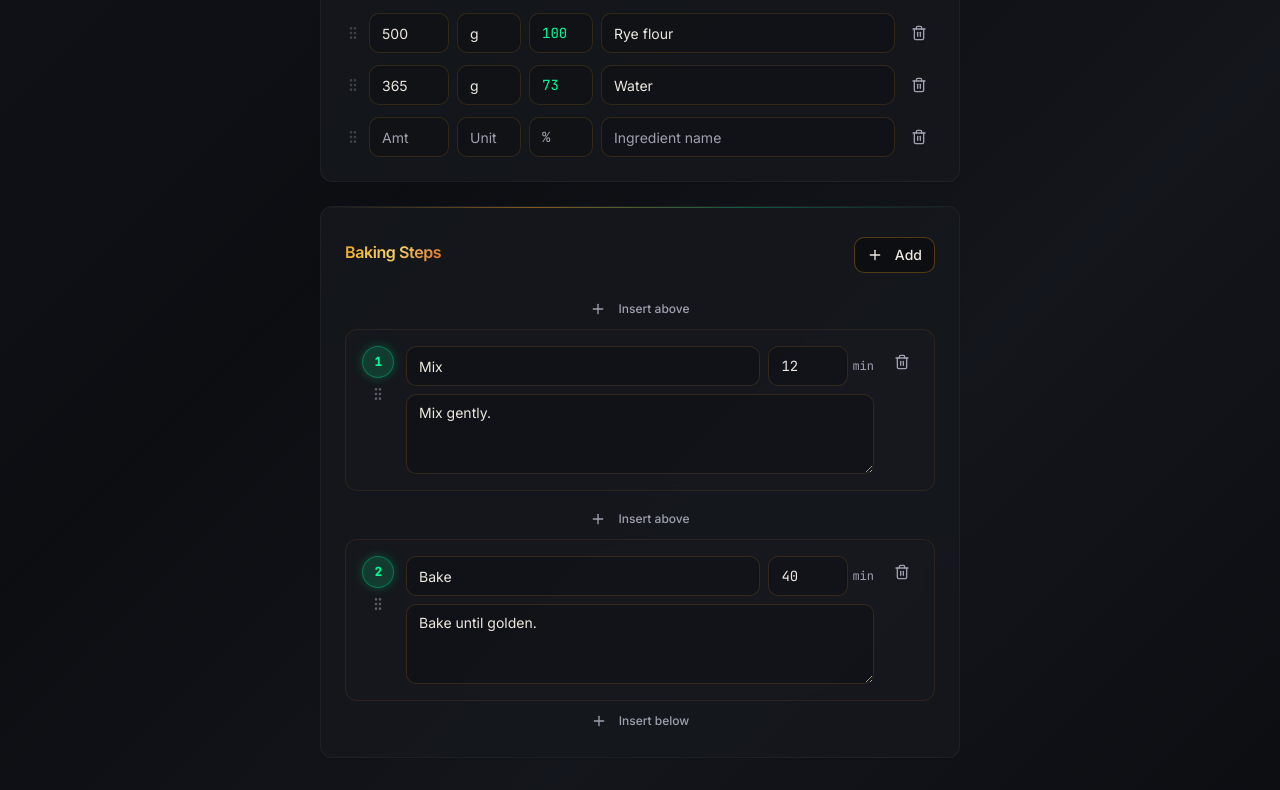
Scenario: creates a recipe with the intended tags, ingredients, and ordered steps
Earlier steps of the test are not shown.
(page scrolled)
Click the button "Insert below". click: coordinates (640, 721)
box: [579,709,701,733]
(page scrolled)
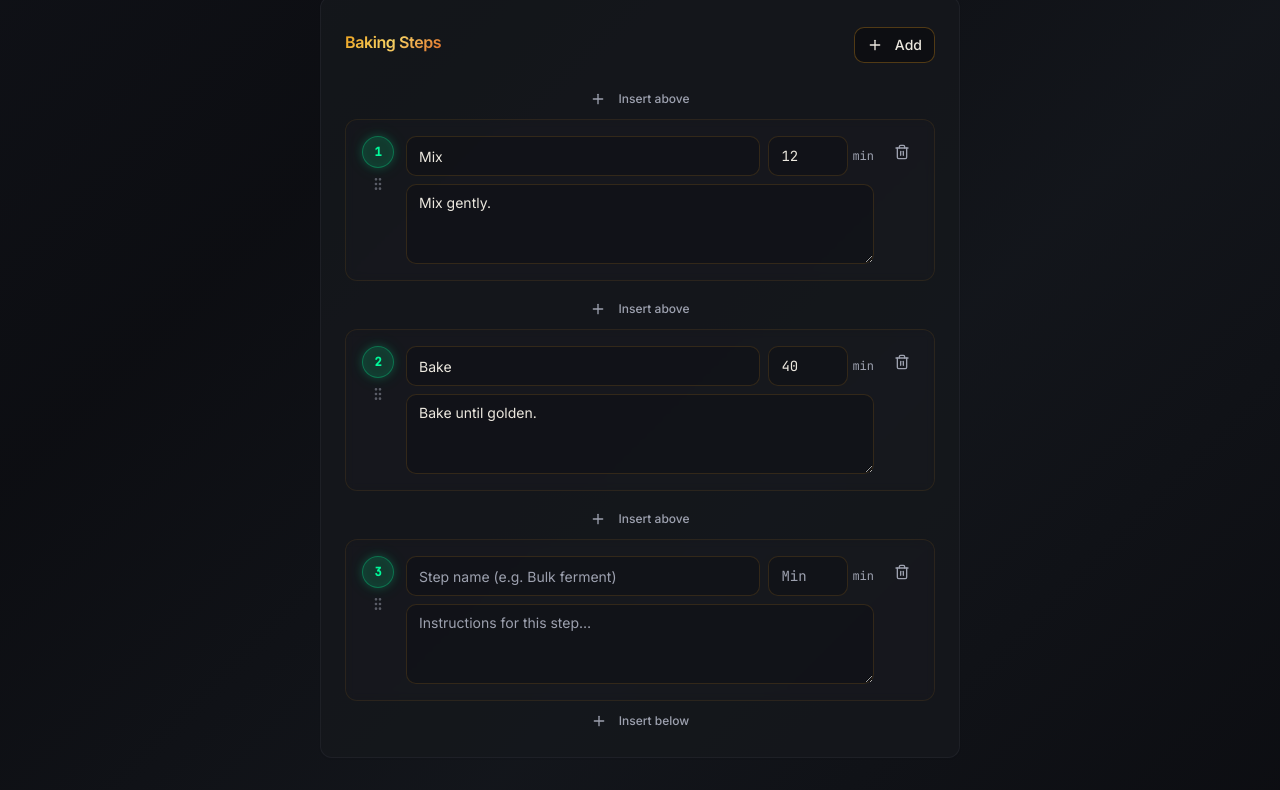
Type "Cooling" into the field with placeholder "Step name (e.g. Bulk ferment)". click: coordinates (583, 576)
box: [406,556,760,596]
Type "50" into the number field with placeholder "Min". click: coordinates (808, 576)
box: [768,556,848,596]
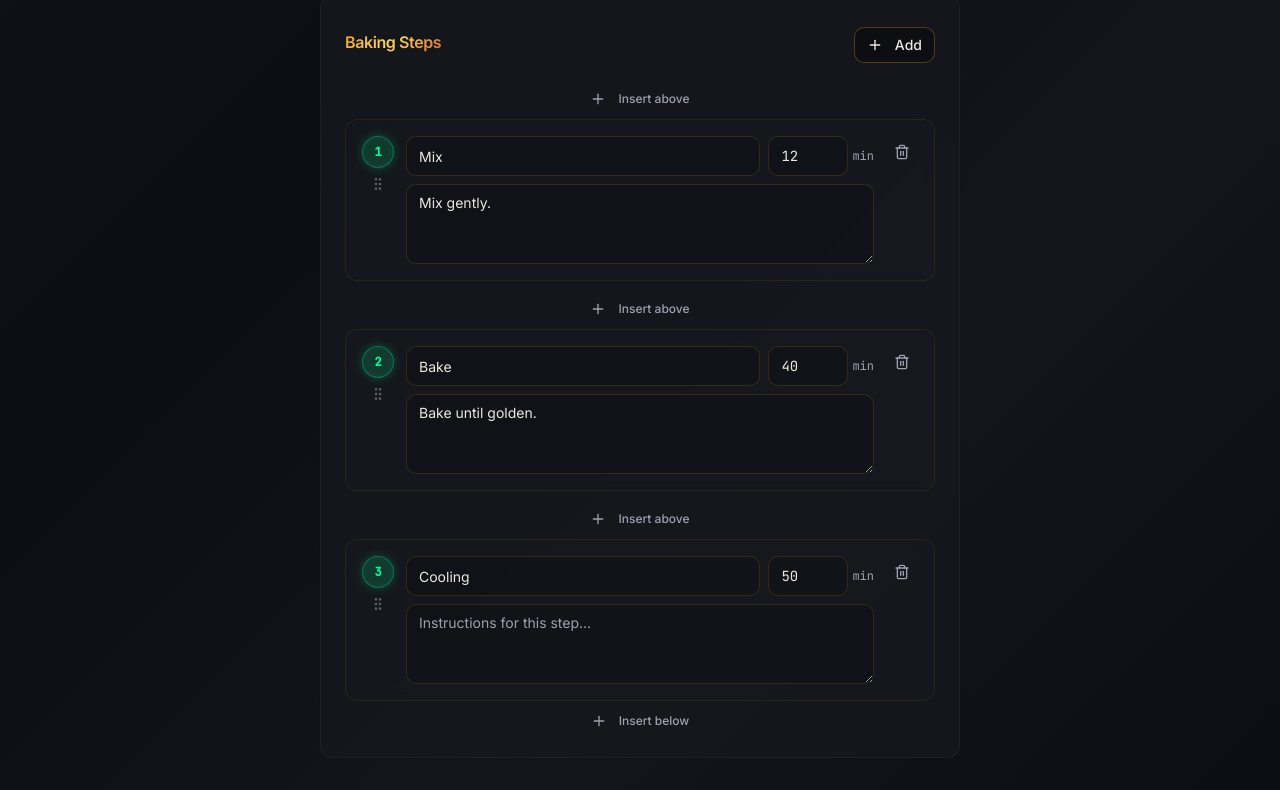
Type "Cool on a rack." into the text box with placeholder "Instructions for this step…". click: coordinates (640, 644)
box: [406,604,874,684]
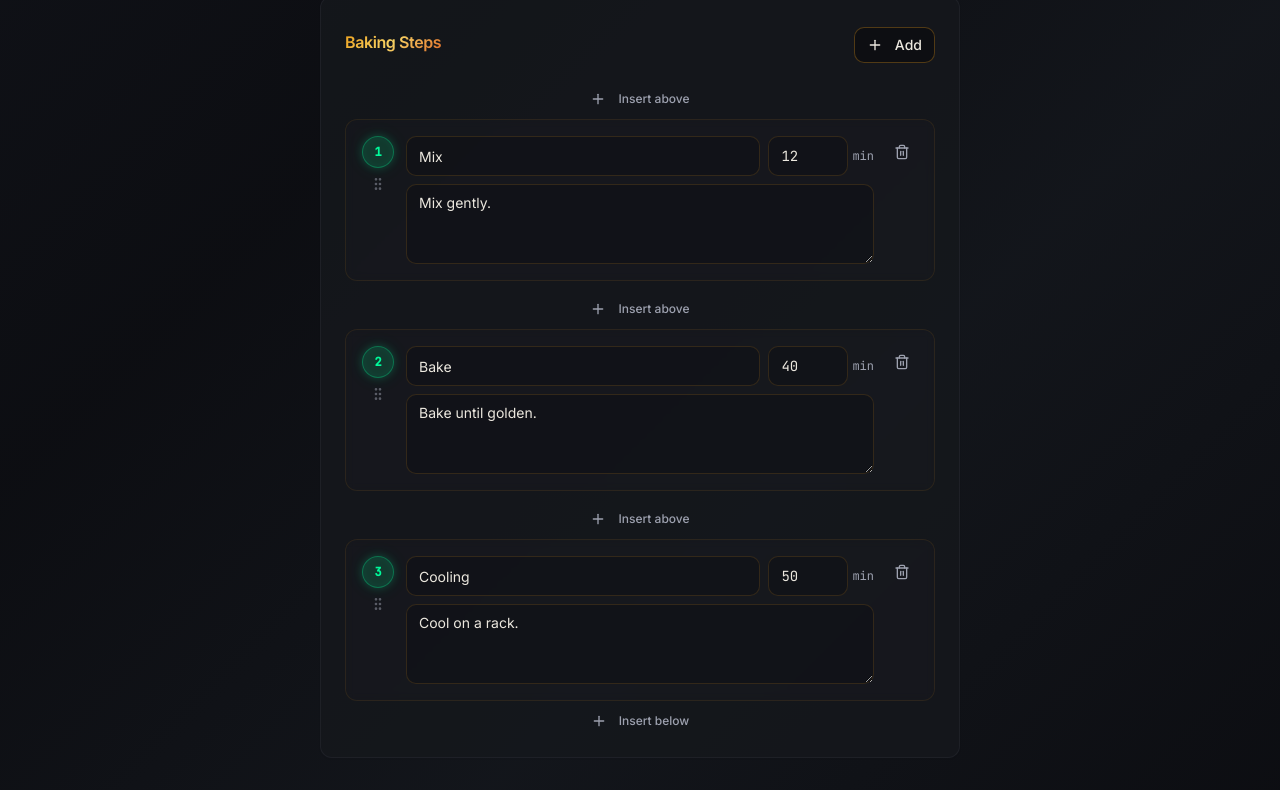
Click the button named "Remove step Bake". click: coordinates (902, 362)
box: [886,346,918,378]
(page scrolled)
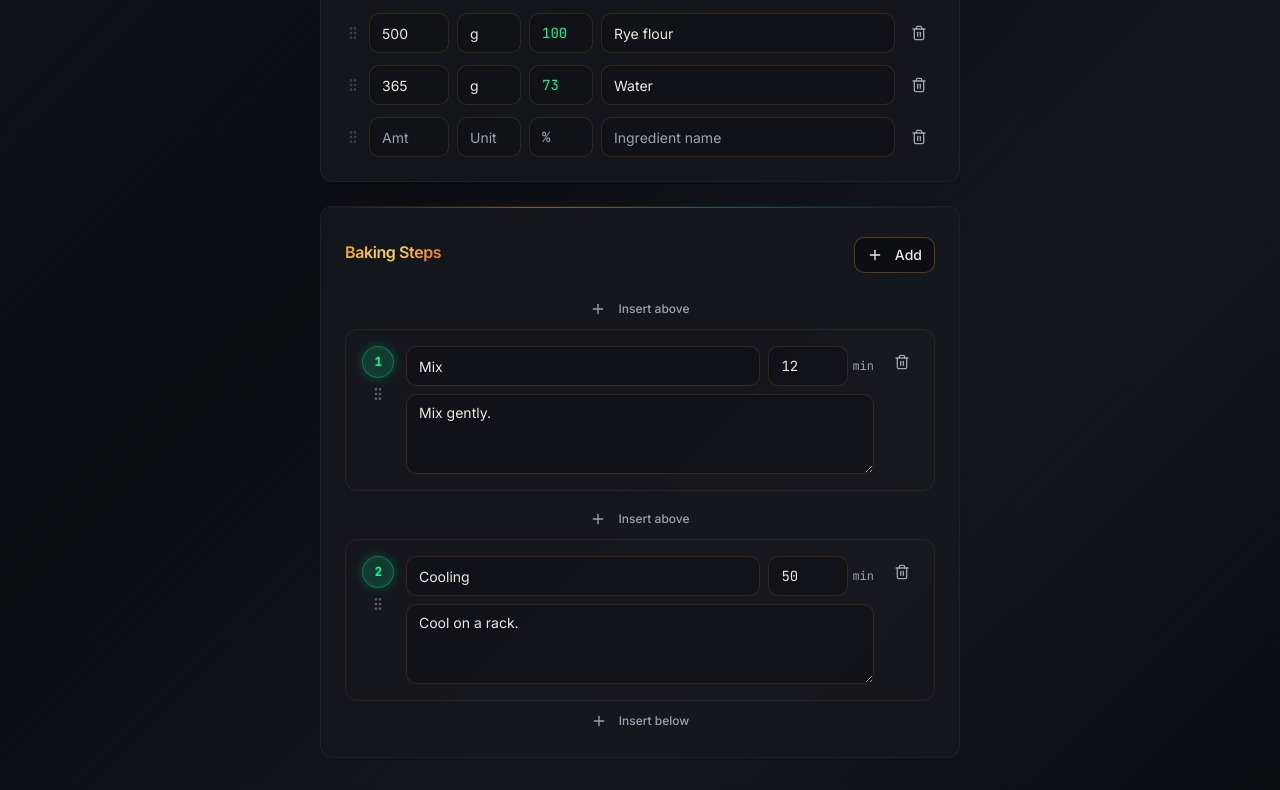
Click the button "Add". click: coordinates (894, 255)
box: [854,237,935,273]
(page scrolled)
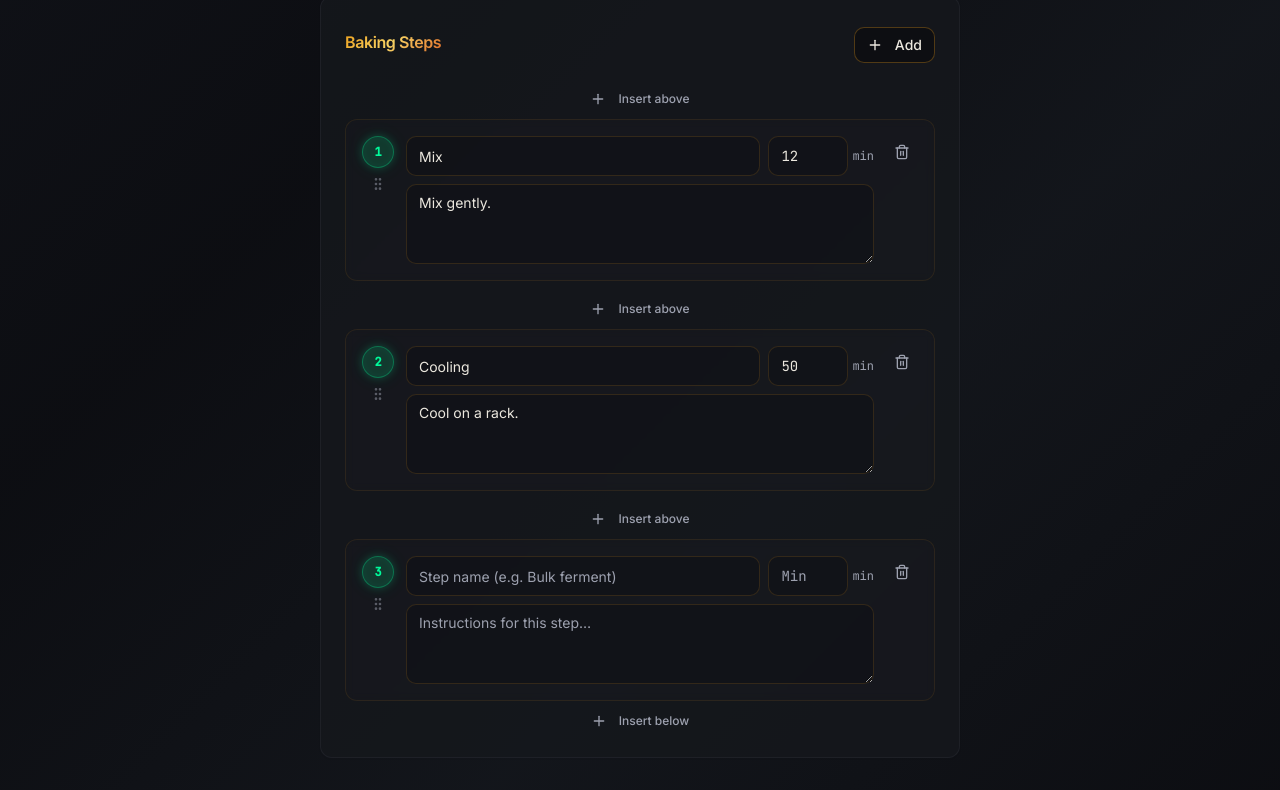
Press s
Press S
(page scrolled)
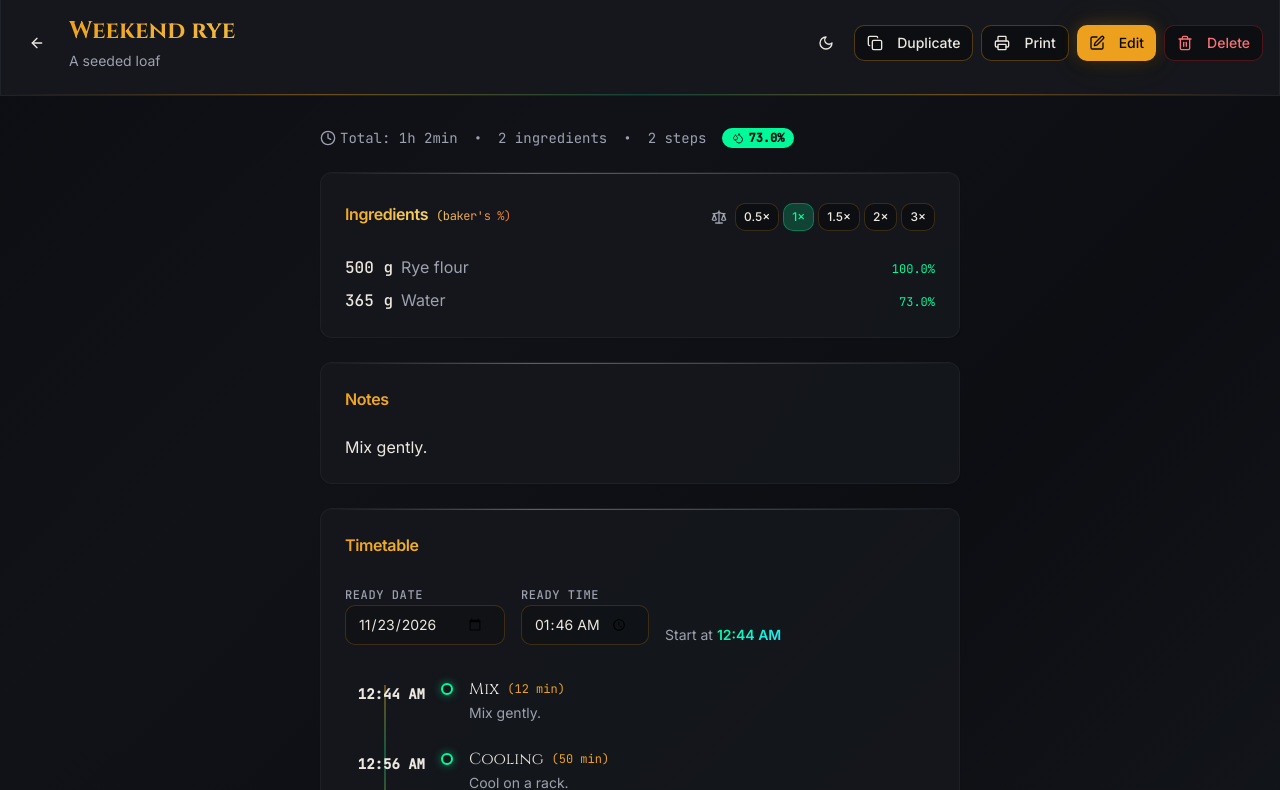
Expected: the heading "Weekend rye" is shown, [69,15,794,47]
